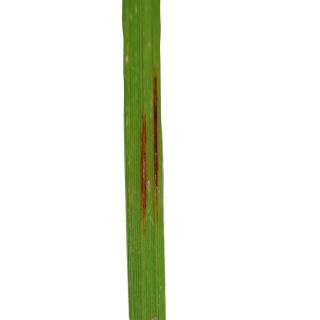Bercak-Cokelat-Sempit: (134, 65, 168, 234)
